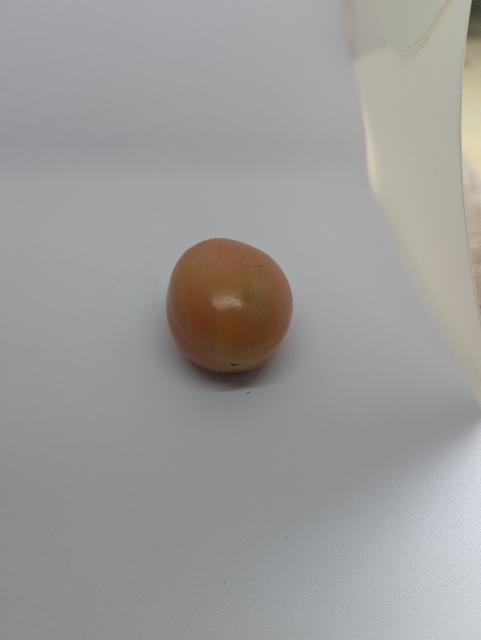turning: (163, 229, 297, 374)
